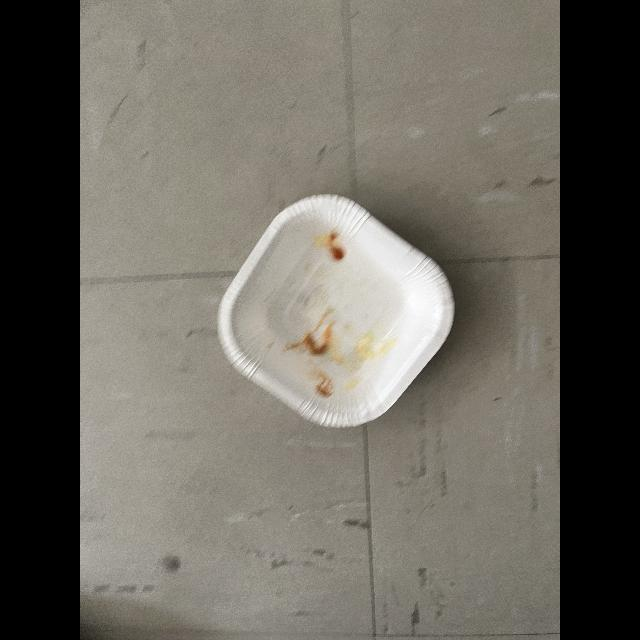cardboard_bowl: (205, 185, 458, 442)
